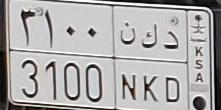0: (85, 26, 104, 104), (63, 26, 81, 101), (44, 7, 58, 101)
3: (20, 8, 39, 99)
D: (163, 30, 182, 103)
K: (142, 23, 160, 103)
N: (120, 21, 137, 101)
